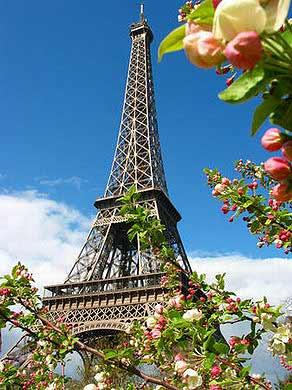Eiffel: (20, 8, 218, 369)
